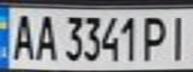1: (118, 12, 142, 62)
3: (60, 11, 84, 62), (81, 12, 103, 62)
4: (100, 12, 121, 62)
A: (6, 10, 39, 61), (30, 11, 60, 62)
I: (163, 11, 193, 62)
P: (139, 12, 172, 62)
